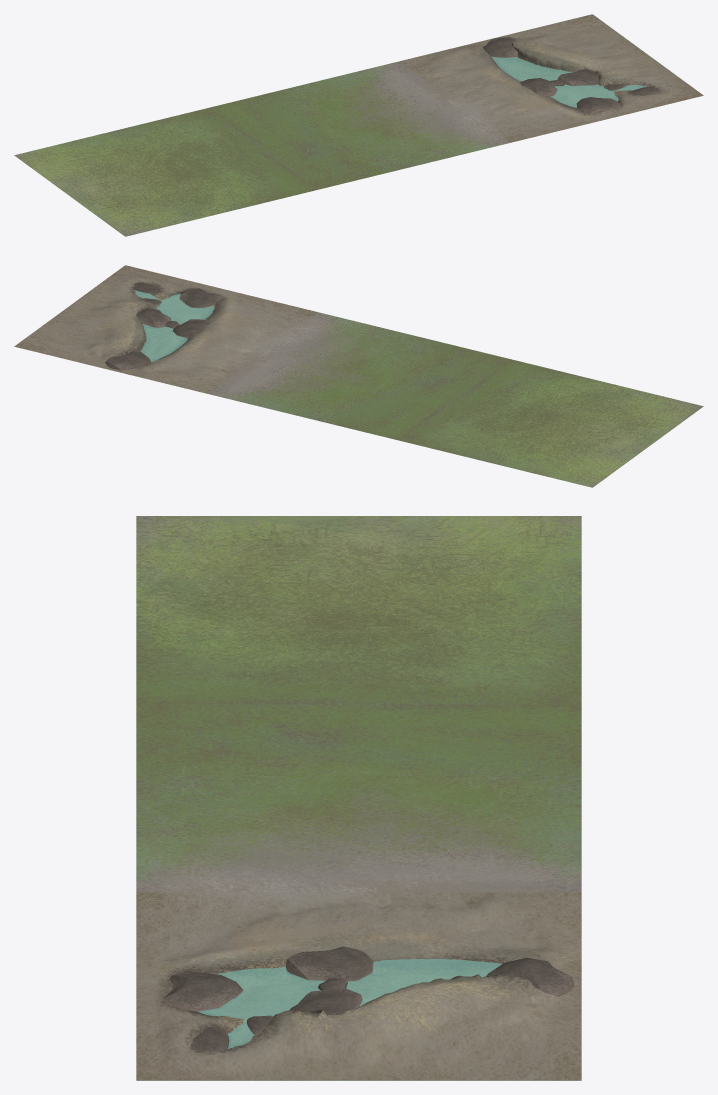
The model's file is Terrain_River3.glb.
3 renders of one model, top to bottom at view 1: azimuth 30°, elevation 25°; view 2: azimuth 150°, elevation 25°; view 3: azimuth 270°, elevation 25°, orthographic. The views are drawn at different scales.
Parts seen in each view (by area): view 1: ground_2, ground_1, creek', water, rock.001, rock.003, rock, rock.002; view 2: ground_2, ground_1, creek', water, rock.003, rock.001, rock, rock.002; view 3: ground_1, ground_2, creek', water, rock.002, rock.003, rock.001, rock.
Part boxes in pixels (x1=…): ground_2: x1=14, y1=108, x2=317, y2=236; ground_1: x1=207, y1=61, x2=510, y2=189; creek': x1=400, y1=14, x2=703, y2=142; water: x1=492, y1=56, x2=647, y2=107; rock.001: x1=483, y1=36, x2=517, y2=58; rock.003: x1=576, y1=97, x2=620, y2=114; rock: x1=558, y1=69, x2=598, y2=86; rock.002: x1=520, y1=78, x2=557, y2=96; ground_2: x1=400, y1=359, x2=703, y2=487; ground_1: x1=207, y1=312, x2=510, y2=440; creek': x1=14, y1=265, x2=317, y2=393; water: x1=135, y1=290, x2=214, y2=362; rock.003: x1=179, y1=288, x2=222, y2=308; rock.001: x1=105, y1=351, x2=150, y2=370; rock: x1=136, y1=308, x2=171, y2=328; rock.002: x1=173, y1=319, x2=210, y2=338; ground_1: x1=136, y1=704, x2=581, y2=892; ground_2: x1=136, y1=516, x2=581, y2=704; creek': x1=136, y1=892, x2=581, y2=1080; water: x1=137, y1=959, x2=580, y2=1080; rock.002: x1=286, y1=946, x2=373, y2=981; rock.003: x1=163, y1=971, x2=243, y2=1011; rock.001: x1=486, y1=957, x2=574, y2=996; rock: x1=290, y1=988, x2=363, y2=1015.
Size of the model in its own units: 18 by 0.3901 by 6.
Materials: 5 (4 with a texture image).
